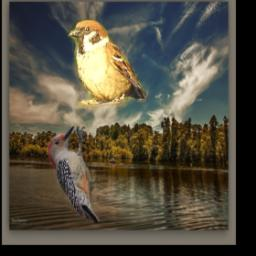Sparrow: (68, 18, 147, 109)
Woodpecker: (48, 126, 99, 223)
